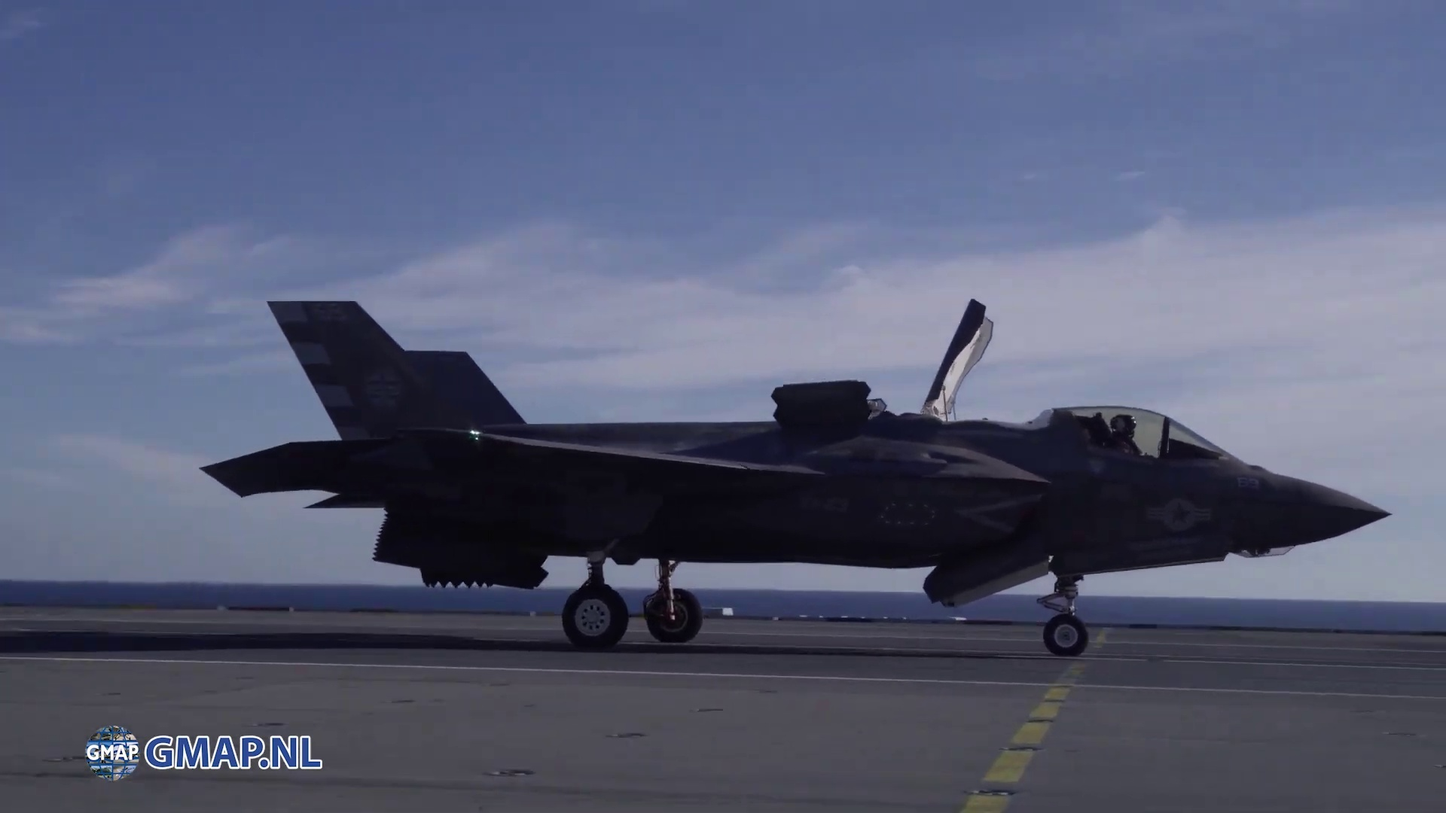F35: (195, 289, 1396, 666)
